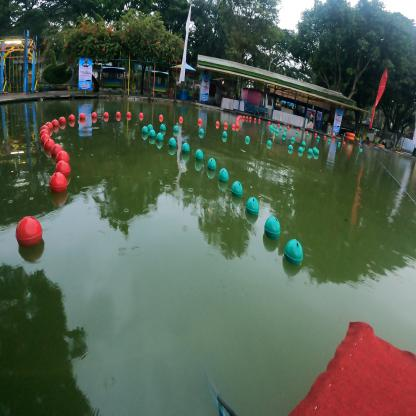green_buoy: (284, 239, 303, 263), (264, 216, 281, 238), (245, 197, 258, 213), (232, 181, 242, 197), (218, 168, 228, 181), (207, 158, 217, 170), (195, 149, 204, 160), (182, 142, 190, 154), (168, 138, 177, 146), (149, 130, 156, 138), (148, 124, 154, 132), (142, 126, 148, 134), (157, 133, 163, 141), (160, 124, 166, 131), (245, 136, 250, 143), (173, 126, 179, 131), (199, 128, 204, 134), (222, 131, 227, 137), (267, 140, 272, 145), (288, 145, 293, 150), (298, 147, 303, 152), (291, 137, 295, 142), (312, 147, 316, 152), (308, 148, 312, 153), (282, 132, 286, 136), (302, 142, 306, 146), (315, 150, 319, 154), (275, 130, 278, 134), (279, 127, 282, 130), (317, 136, 320, 139), (328, 139, 331, 142), (348, 145, 351, 148), (360, 148, 362, 152), (285, 128, 287, 131), (296, 131, 298, 134), (338, 142, 340, 145), (307, 134, 309, 136)
red_buoy: (15, 216, 42, 244), (48, 172, 68, 192), (55, 161, 70, 177), (51, 144, 62, 160), (57, 152, 70, 165), (45, 140, 55, 153), (41, 134, 50, 146), (40, 130, 50, 139), (45, 122, 53, 130), (40, 126, 48, 134), (59, 117, 66, 124), (52, 120, 59, 127), (69, 115, 75, 121), (79, 113, 85, 118), (104, 112, 109, 117), (92, 113, 97, 118), (159, 114, 163, 119), (179, 116, 183, 121), (127, 112, 131, 116), (140, 113, 144, 117), (224, 122, 228, 126), (232, 124, 236, 128), (116, 113, 121, 116), (216, 121, 219, 126), (198, 119, 202, 122), (243, 116, 245, 119), (246, 116, 248, 119), (250, 117, 252, 120), (258, 119, 260, 122), (268, 121, 270, 124), (278, 123, 280, 126), (297, 128, 299, 131), (333, 138, 335, 141), (343, 142, 346, 144), (254, 118, 256, 120), (288, 126, 290, 128), (306, 131, 308, 133), (315, 133, 317, 135), (324, 136, 326, 138)
